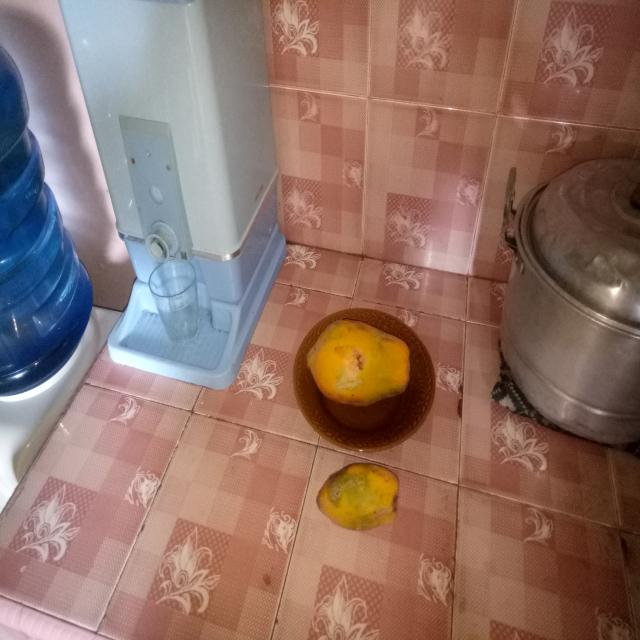Pepaya rippen: (296, 322, 417, 412), (310, 452, 405, 530)
